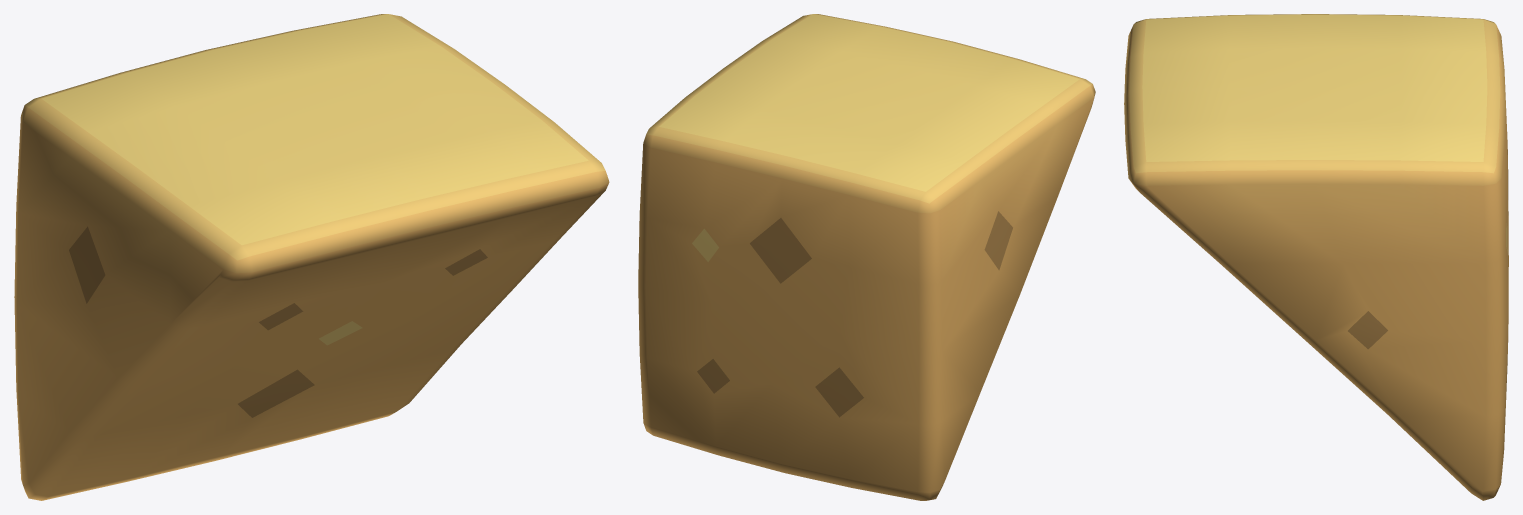
Rendered from Sand_SlopeUnder_Straight.fbx.
3 views of the same model, side by side, from view 1: azimuth 30°, elevation 25°; view 2: azimuth 150°, elevation 25°; view 3: azimuth 270°, elevation 25° (orthographic). The views are drawn at different scales.
Parts seen in each view (by area): view 1: Sand_SlopeUnder_Sraight_LOD0; view 2: Sand_SlopeUnder_Sraight_LOD0; view 3: Sand_SlopeUnder_Sraight_LOD0.
Boxes of the visible parts, box(x1,y1,x2,y2) form: Sand_SlopeUnder_Sraight_LOD0: box(14, 14, 609, 500); Sand_SlopeUnder_Sraight_LOD0: box(638, 14, 1095, 500); Sand_SlopeUnder_Sraight_LOD0: box(1124, 14, 1508, 500).
Size of what is drawn, in the model's own units: 1.08 by 1.08 by 1.08.
